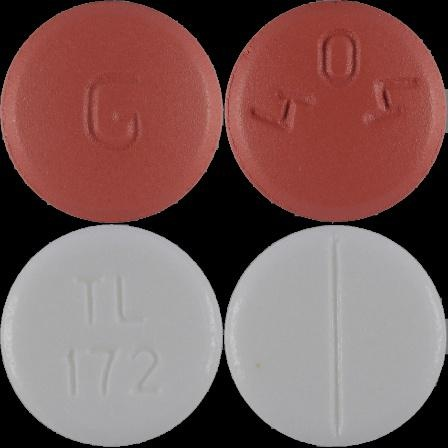10544-909: (0, 0, 224, 224)
